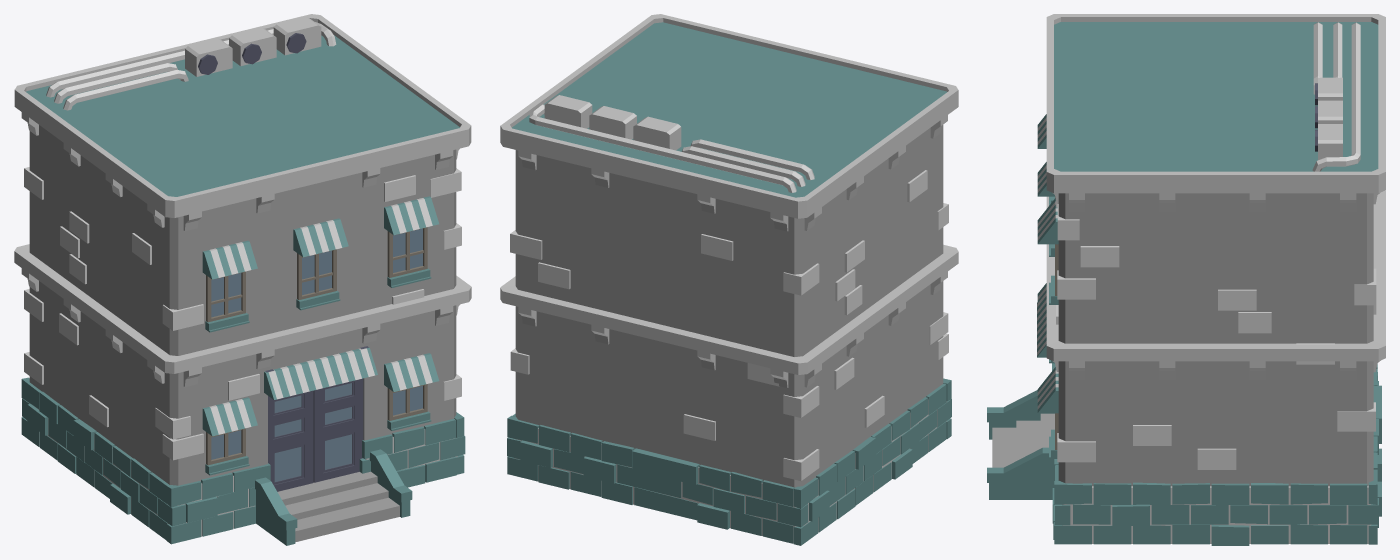
File: quat_2story_double.glb
3 renders of one model, left to right at view 1: azimuth 30°, elevation 25°; view 2: azimuth 150°, elevation 25°; view 3: azimuth 270°, elevation 25°, orthographic. The views are drawn at different scales.
Parts seen in each view (by area): view 1: 2Story_Double_Cube.114; view 2: 2Story_Double_Cube.114; view 3: 2Story_Double_Cube.114.
Boxes of the visible parts, x1=… form: 2Story_Double_Cube.114: x1=14, y1=14, x2=471, y2=545; 2Story_Double_Cube.114: x1=500, y1=14, x2=958, y2=545; 2Story_Double_Cube.114: x1=987, y1=14, x2=1385, y2=545.
Bounding box in the file's own units: 2.42 × 2.75 × 2.53.
1 material, 1 textured.
